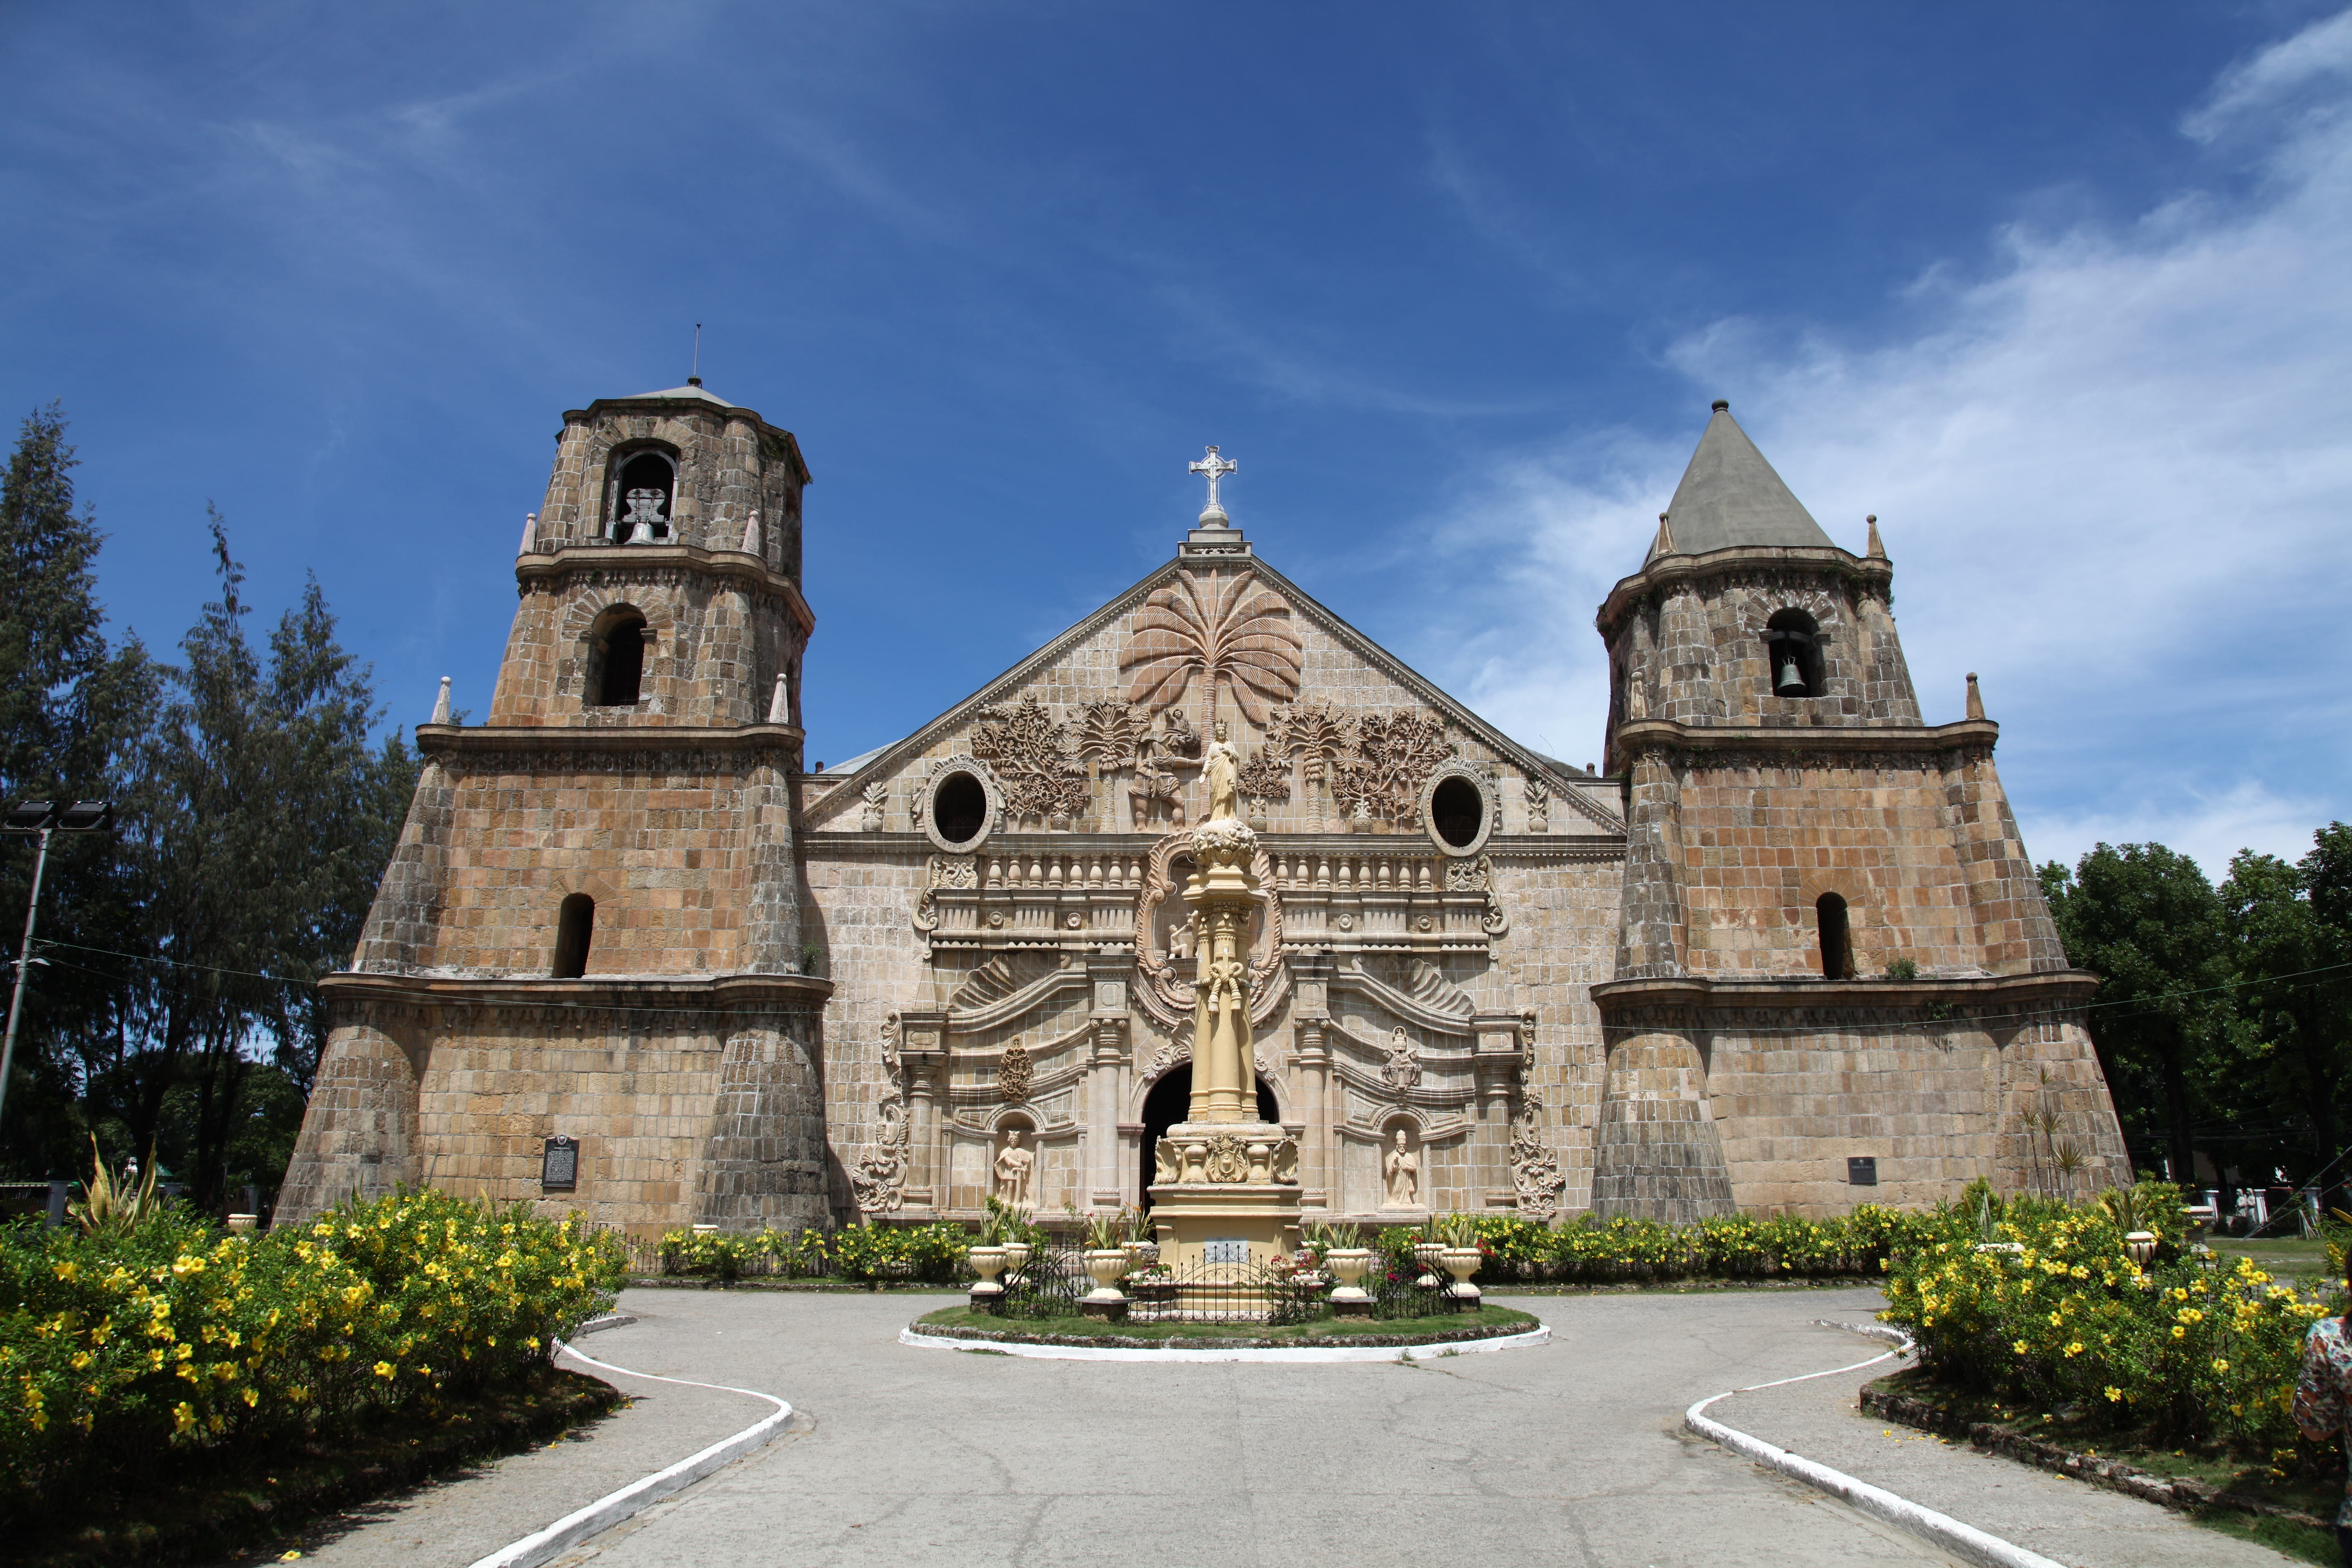Miagao Church: (264, 355, 2147, 1232)
